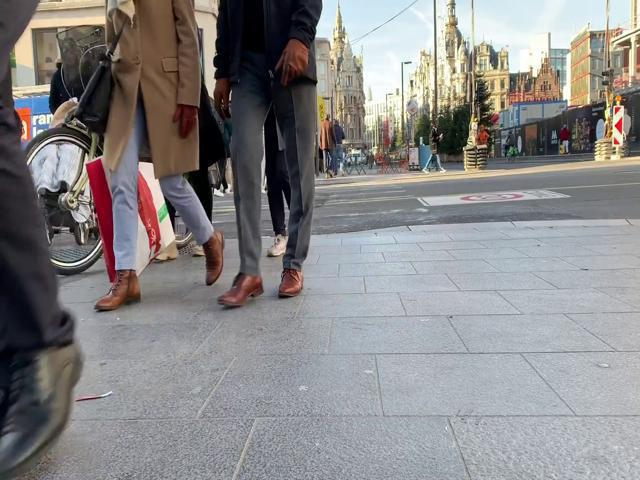shoe: (1, 343, 83, 479), (94, 270, 141, 310), (217, 273, 264, 307), (203, 230, 224, 286), (278, 269, 303, 297), (267, 234, 287, 256)
